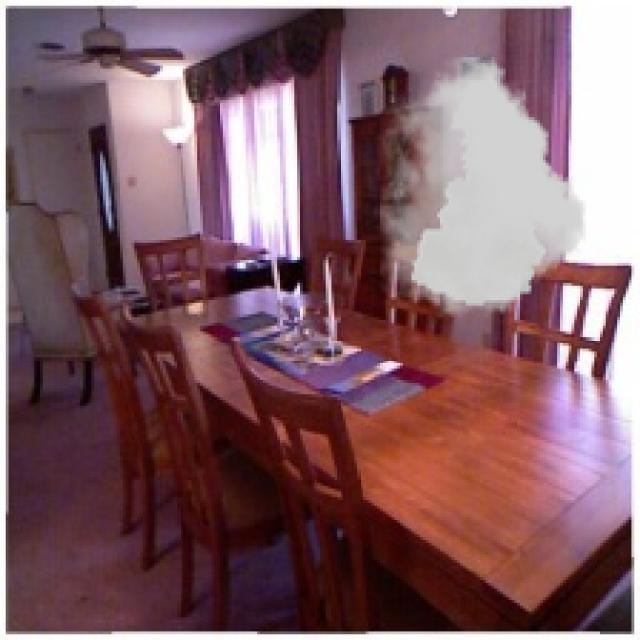Smoke: (380, 57, 586, 317)
